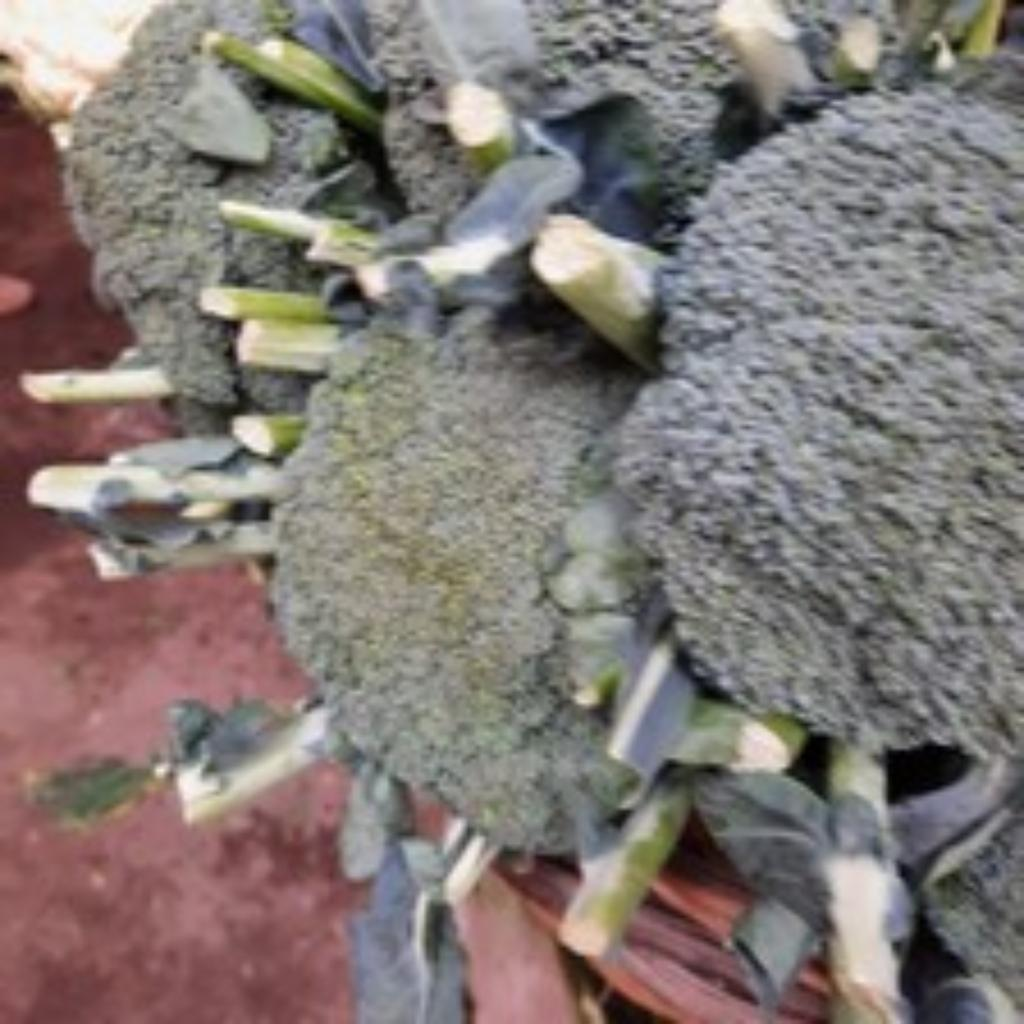Broccoli: (276, 0, 1024, 849), (537, 0, 1024, 759), (616, 80, 1024, 755), (616, 93, 1024, 755), (276, 296, 642, 849), (278, 296, 646, 845), (276, 300, 642, 849), (72, 0, 484, 429), (70, 2, 392, 431), (66, 0, 238, 429)
